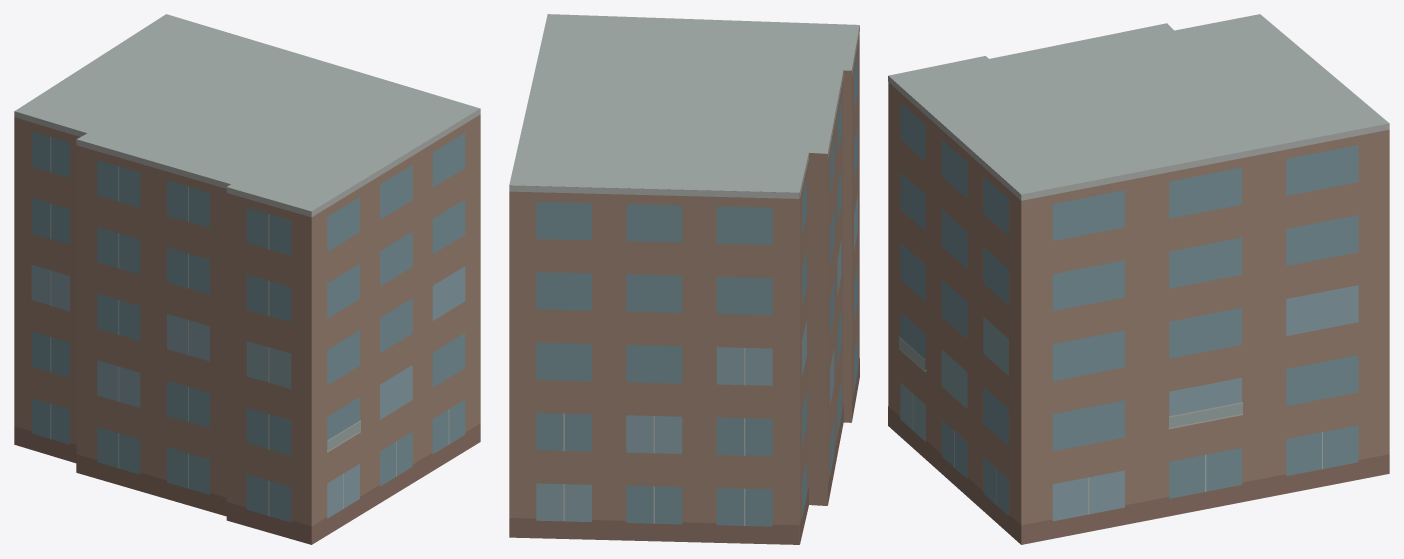
The model's file is survey-upis-32740474.glb.
The picture shows the model from 3 angles, left to right: view 1: azimuth 30°, elevation 25°; view 2: azimuth 150°, elevation 25°; view 3: azimuth 270°, elevation 25°; orthographic projection. The views are drawn at different scales.
Visible parts, largest first — view 1: survey-upis-32740474.tmp; view 2: survey-upis-32740474.tmp; view 3: survey-upis-32740474.tmp.
Boxes of the visible parts, box(x1,y1,x2,y2) form: survey-upis-32740474.tmp: box(14, 14, 480, 544); survey-upis-32740474.tmp: box(509, 14, 859, 544); survey-upis-32740474.tmp: box(888, 14, 1389, 544).
Bounding box in the file's own units: 15.27 × 13.8 × 17.92.
